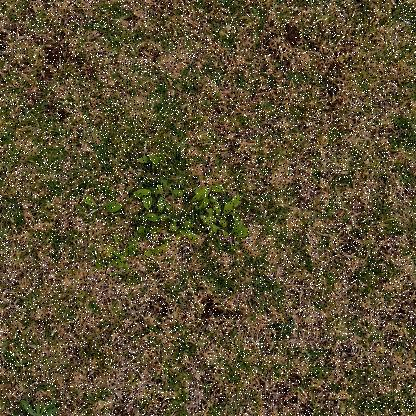Weeds: (82, 153, 250, 269), (6, 399, 59, 415)
